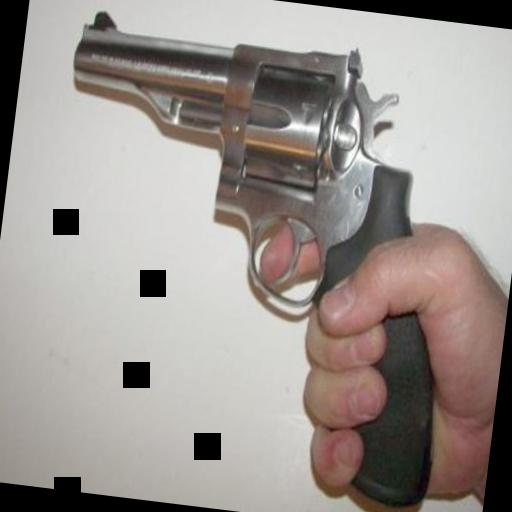Handgun: (26, 2, 481, 504)
